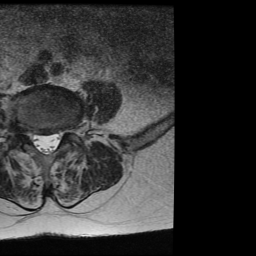CCS_normal: (42, 125, 50, 161)
LFS_severe_stenosis: (61, 119, 70, 142)
LLS_normal: (50, 126, 61, 156)
RFS_severe_stenosis: (21, 116, 33, 142)
RLS_normal: (33, 125, 42, 156)
